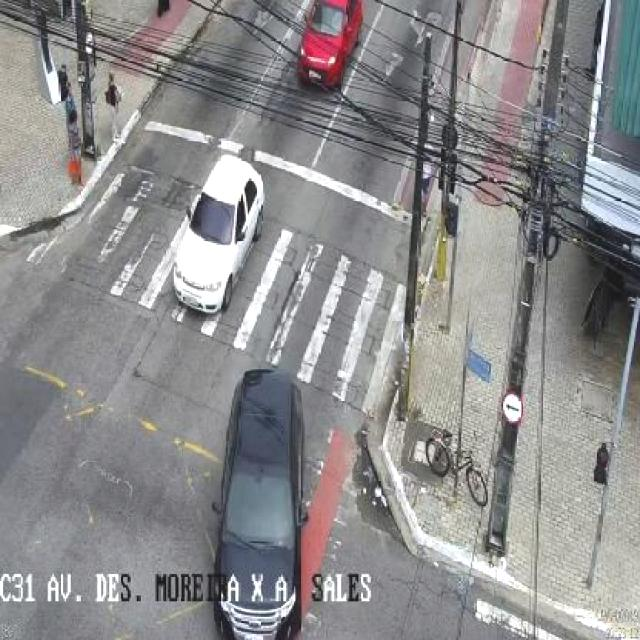Car: (206, 366, 312, 640), (170, 151, 266, 318), (294, 0, 366, 97)
Cycle: (421, 424, 493, 510)
